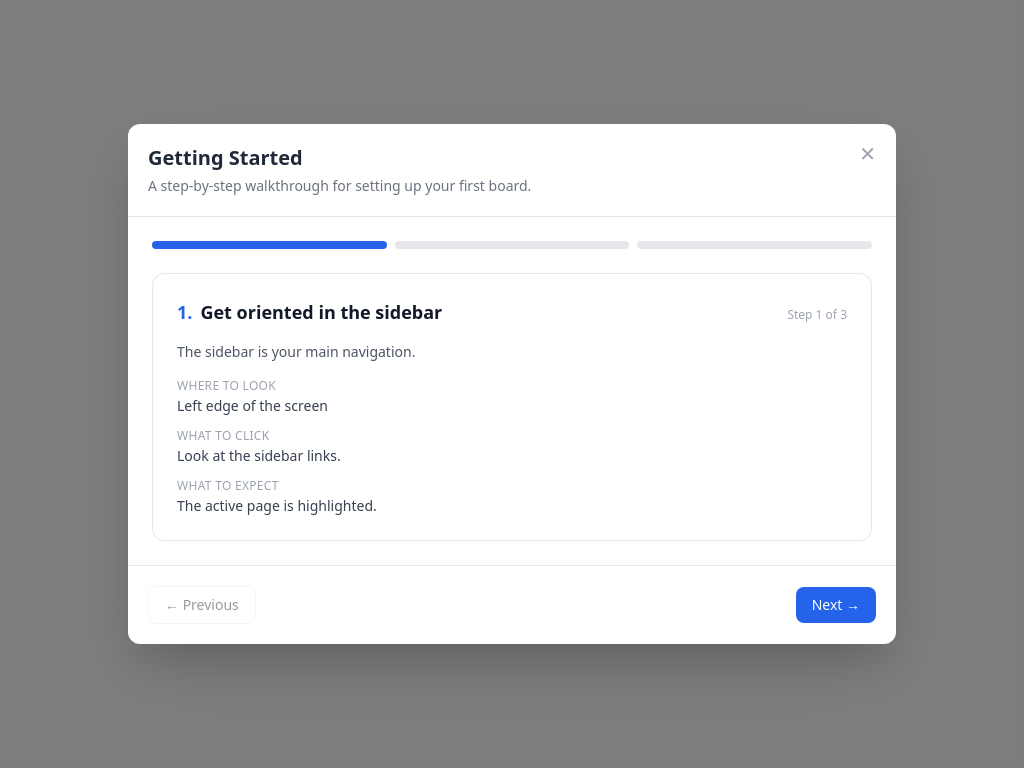
it: OnboardingGuide › Next button advances to the second step
This screenshot has width=1024, height=768.
Check: the heading "1.Get oriented in the sidebar" is shown, box top-left (177, 298), bottom-right (442, 326)
Click the button with test id "onboarding-next".
click(836, 605)  # box top-left (796, 587), bottom-right (876, 623)
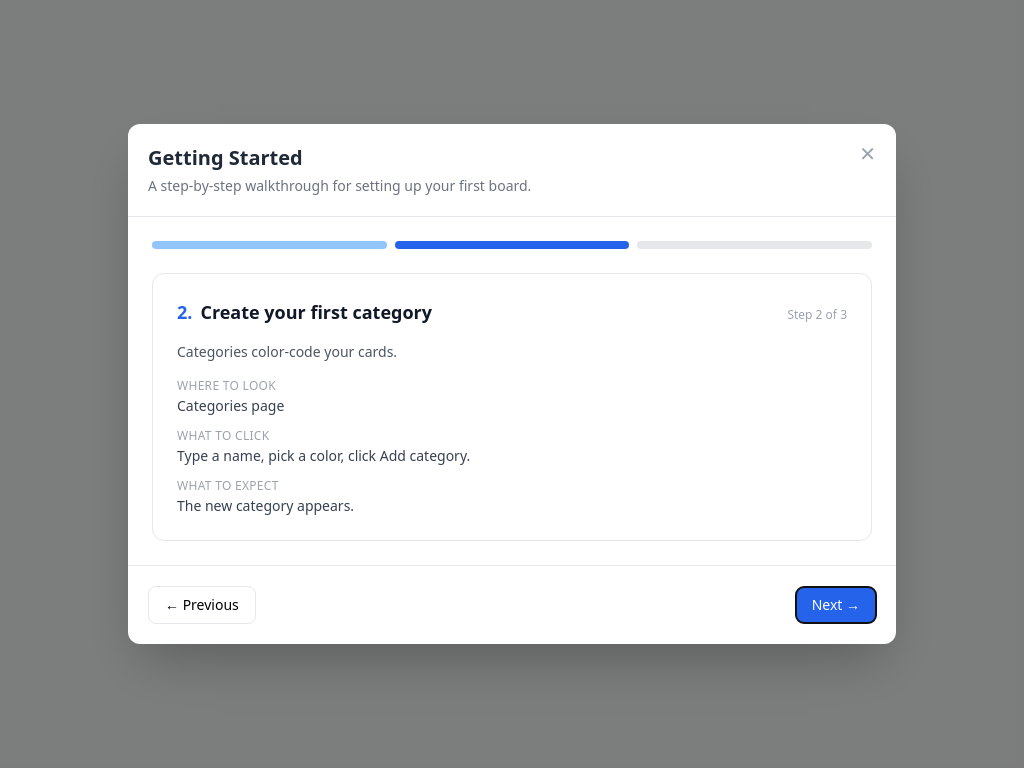
Check: the heading "2.Create your first category" is shown, box top-left (177, 298), bottom-right (432, 326)
Check: the text "Step 2 of 3" is shown, box top-left (787, 307), bottom-right (847, 323)
